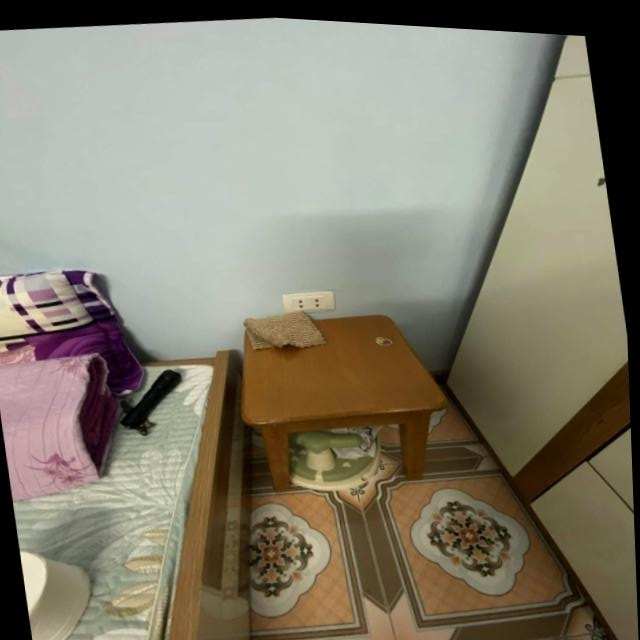outlet: (281, 289, 336, 318)
